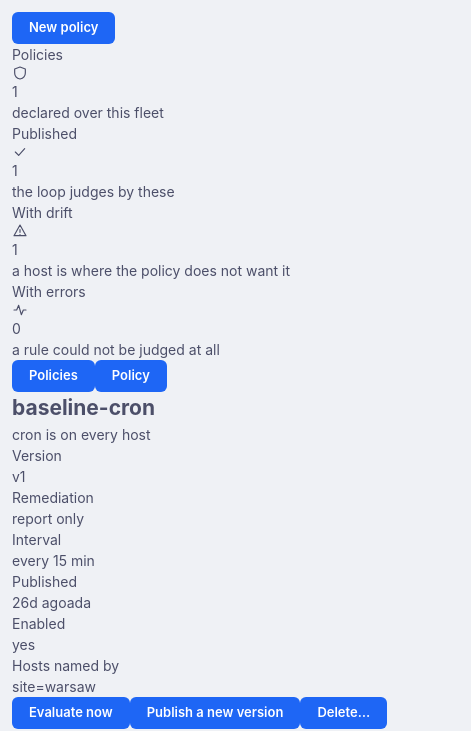
Scenario: one policy › evaluates on demand and says what the evaluation found
The width and height of the screenshot is (471, 731).
What coordinates should you click on to do the following:
click the button with test id "evaluate"
I would click on:
 (71, 712)
Its box is [12,696,130,728].
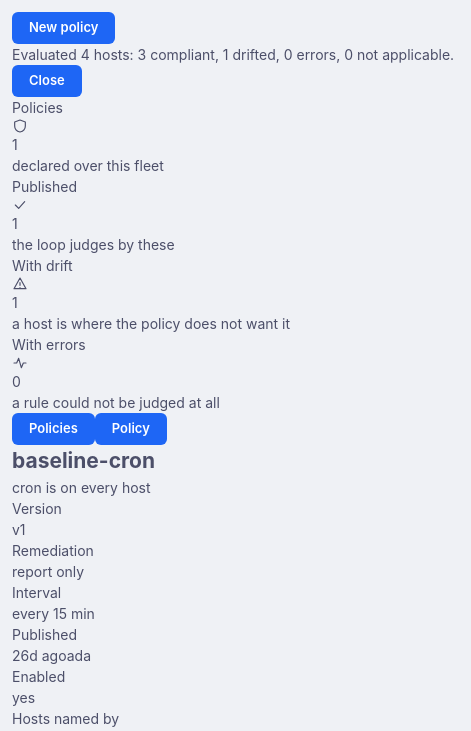
Expected: the text "Evaluated 4 hosts" is shown, [12,46,454,63]
